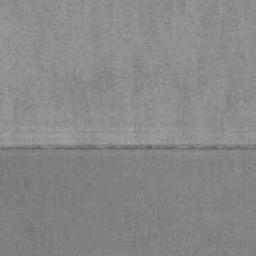Welding line: (0, 142, 256, 152)
